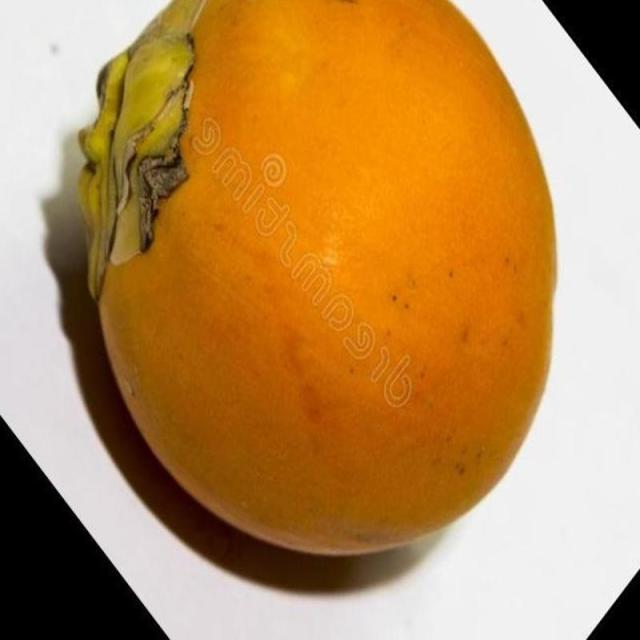good: (79, 0, 555, 554)
